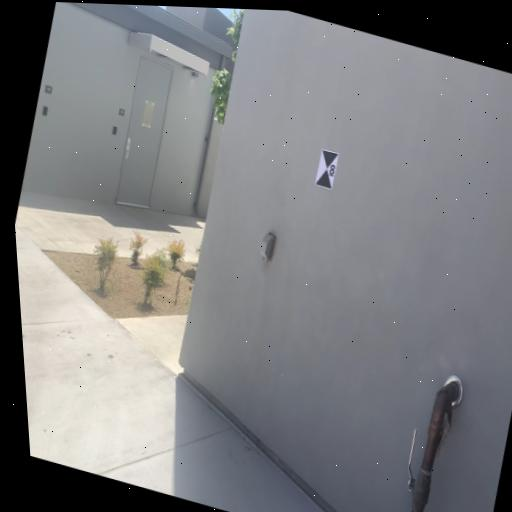target8: (312, 150, 341, 192)
